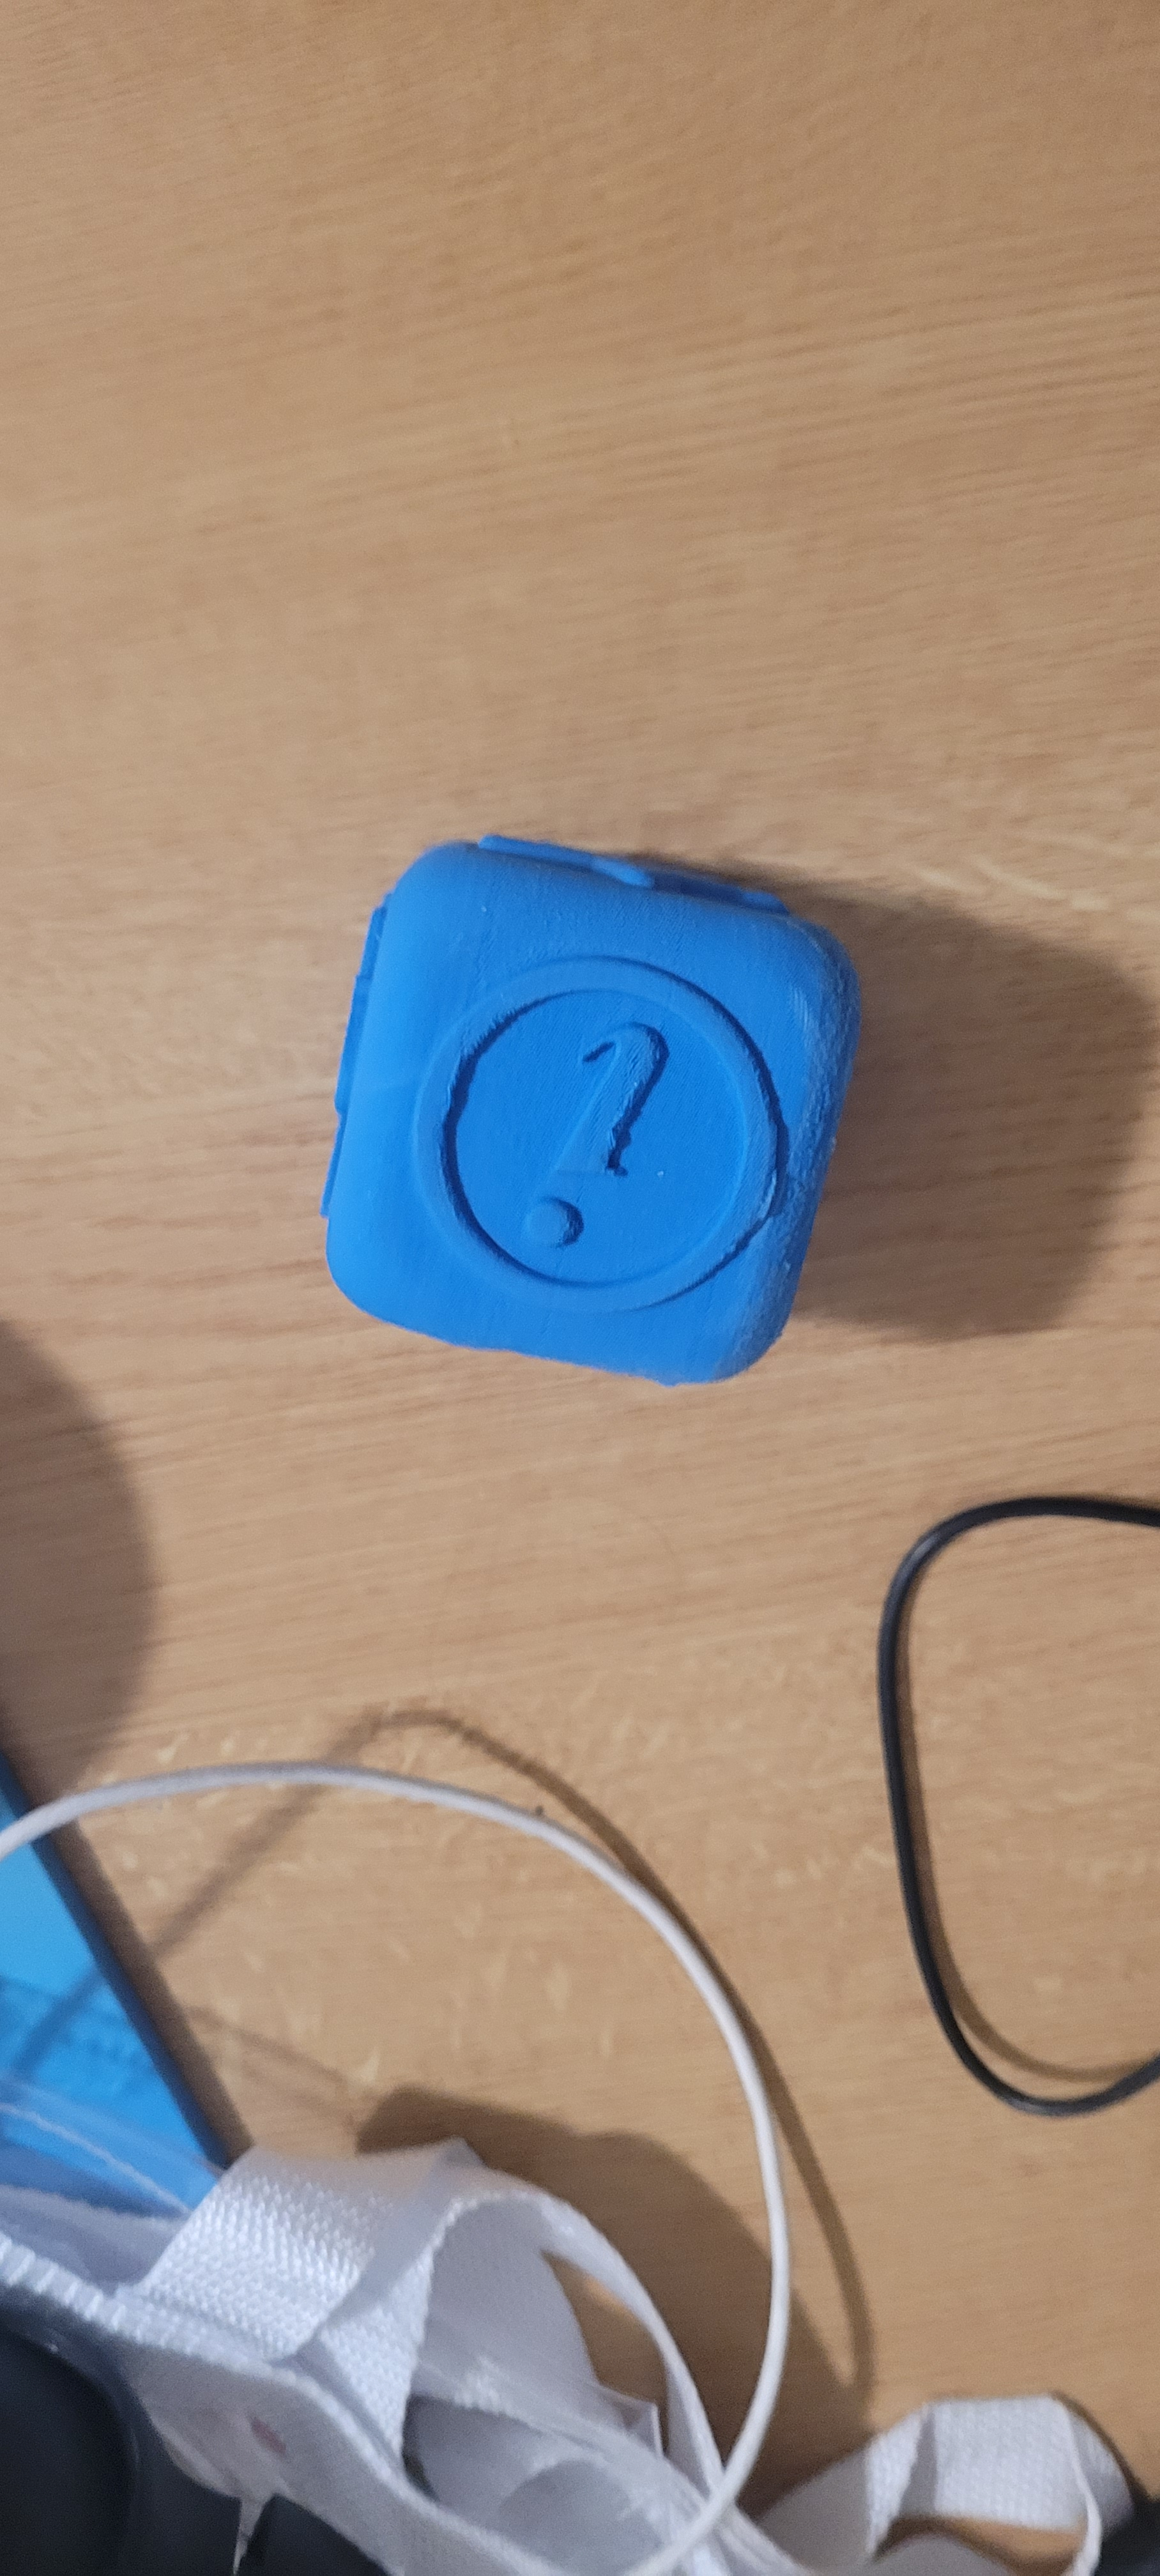Info: (422, 877, 790, 1331)
